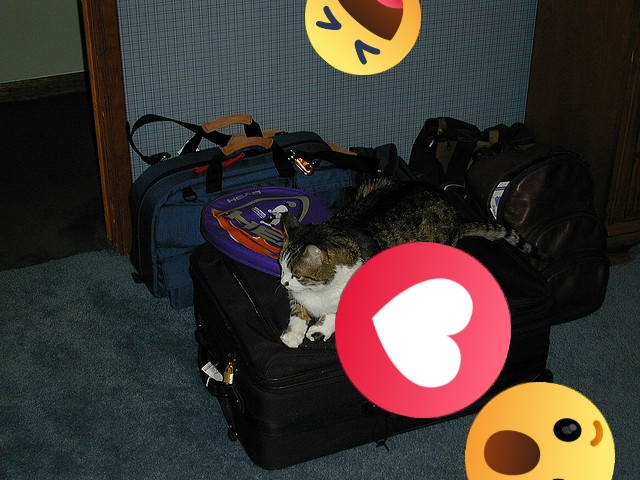haha: (305, 0, 421, 75)
love: (335, 242, 511, 418)
wow: (465, 382, 615, 480)
